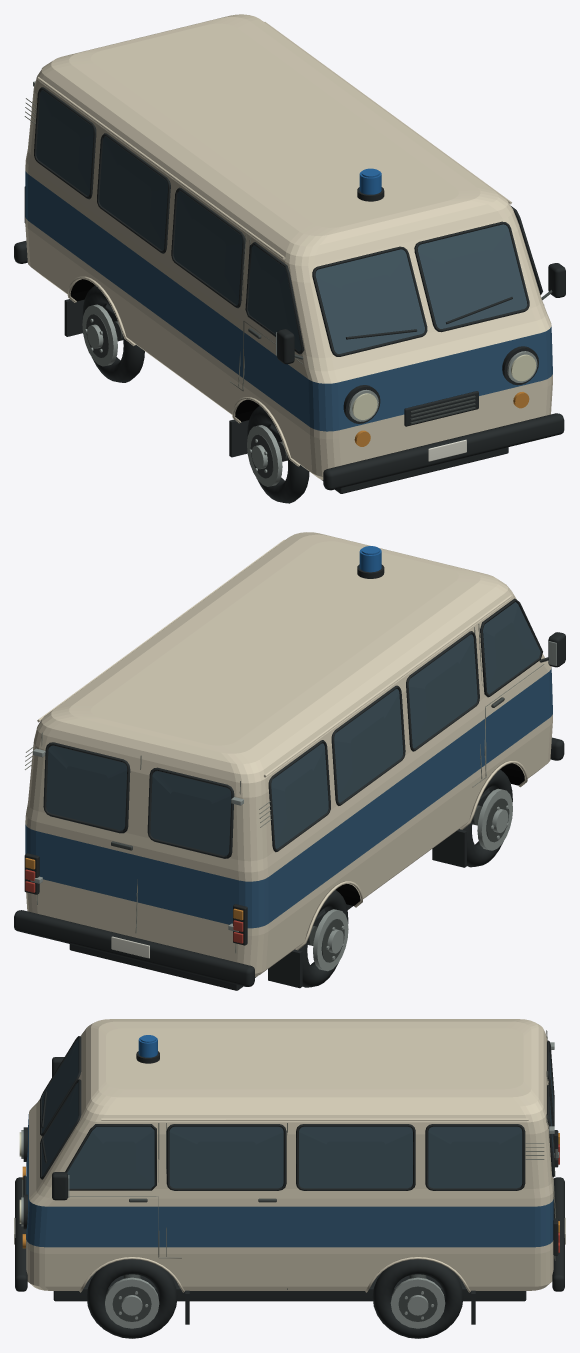
The model's file is uaz_police.glb.
3 views of the same model, one above another, from view 1: azimuth 30°, elevation 25°; view 2: azimuth 150°, elevation 25°; view 3: azimuth 270°, elevation 25° (orthographic). The views are drawn at different scales.
Parts seen in each view (by area): view 1: Body game, Wheel.001 game, Wheel game; view 2: Body game, Wheel.001 game, Wheel game; view 3: Body game, Wheel.003 game, Wheel.002 game.
Part boxes in pixels (x1,y1,x2,y2): Body game: (14,14,565,493); Wheel.001 game: (82,285,144,382); Wheel game: (247,406,309,503); Body game: (14,532,565,990); Wheel.001 game: (295,890,348,987); Wheel game: (459,769,512,867); Body game: (14,1019,565,1324); Wheel.003 game: (372,1259,463,1338); Wheel.002 game: (86,1259,177,1338).
Bounding box in the file's own units: 1.94 × 1.94 × 3.77.
3 materials, 3 textured.
